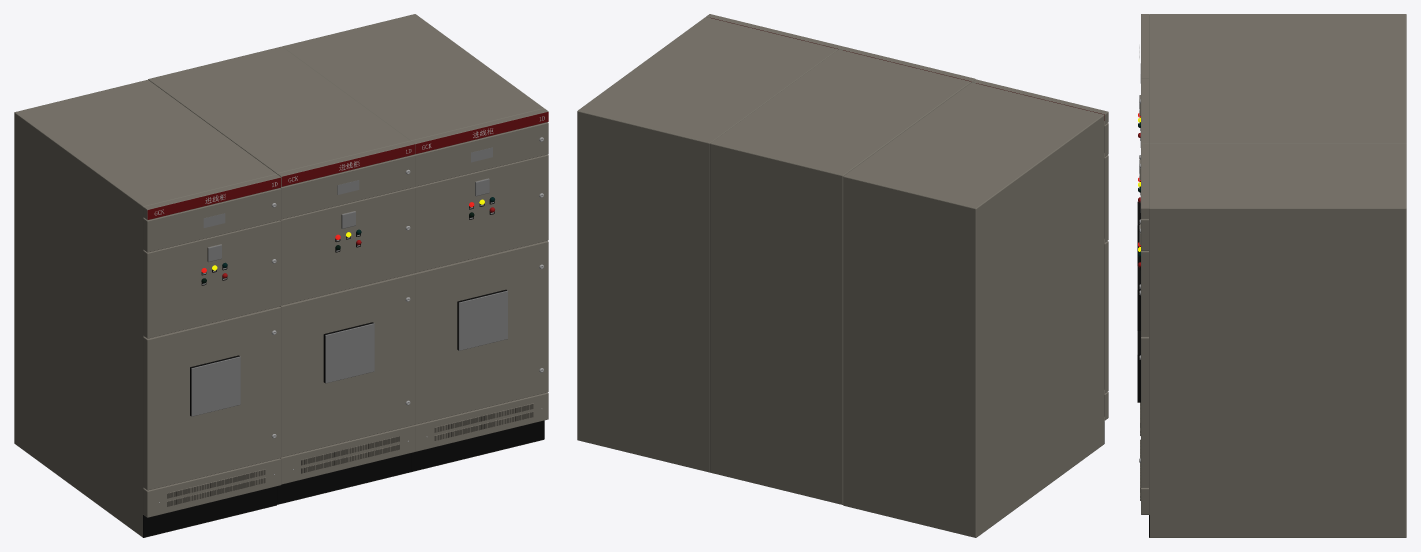
File: Panels3.FBX
3 views of the same model, side by side, from view 1: azimuth 30°, elevation 25°; view 2: azimuth 150°, elevation 25°; view 3: azimuth 270°, elevation 25° (orthographic).
Parts seen in each view (by area): view 1: Box001, Box003, Box002; view 2: Box001, Box003, Box002; view 3: Box002, Box003, Box001.
Boxes of the visible parts, left/top/right/bottom form: Box001: left=14, top=80, right=281, bottom=537; Box003: left=148, top=46, right=414, bottom=504; Box002: left=282, top=14, right=548, bottom=472; Box001: left=843, top=79, right=1108, bottom=537; Box003: left=710, top=46, right=975, bottom=504; Box002: left=577, top=14, right=842, bottom=472; Box002: left=1137, top=143, right=1406, bottom=537; Box003: left=1137, top=78, right=1406, bottom=435; Box001: left=1137, top=14, right=1406, bottom=265.
Size of the model in its own units: 142 by 112 by 82.7.
